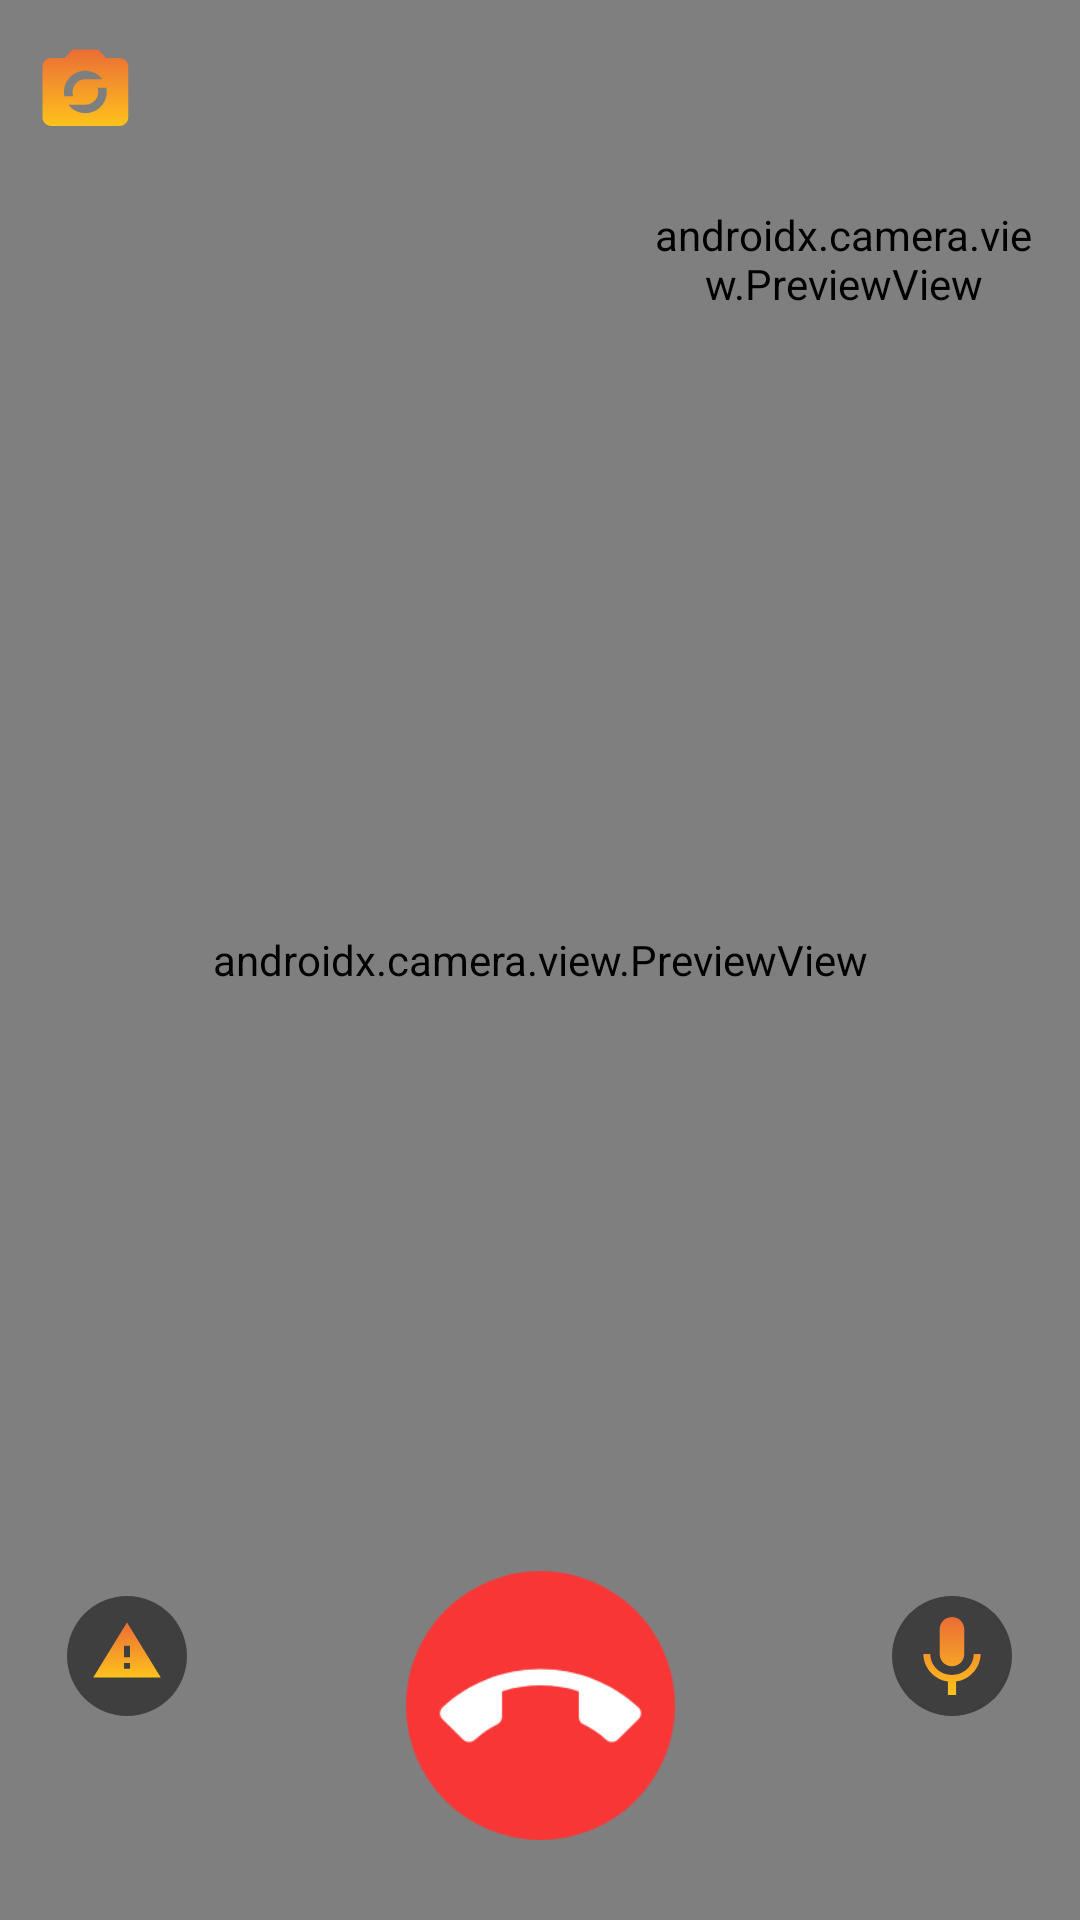

Screen size 1080 x 1920. Icon name, then its box in pixels as (x1, y1, x2, y2):
flip camera: (42, 49, 129, 126)
report: (67, 1596, 187, 1716)
